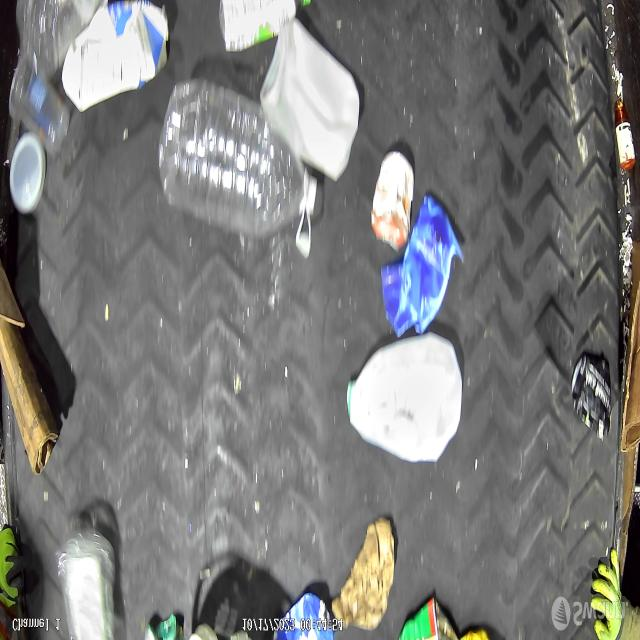can: (371, 150, 414, 251), (570, 355, 612, 438)
milk_jug: (262, 14, 362, 182), (347, 334, 464, 464)
non_white_jug: (61, 2, 171, 111)
plastic_bottle: (156, 77, 320, 240)
